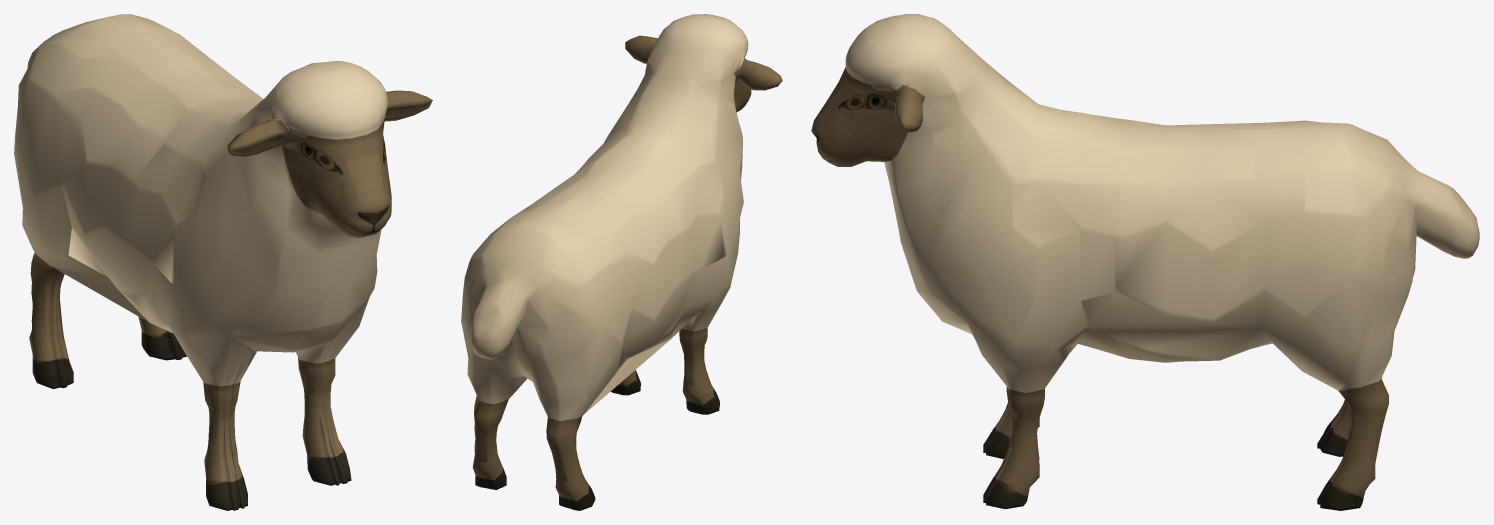
Rendered from sheep.glb.
3 renders of one model, left to right at view 1: azimuth 30°, elevation 25°; view 2: azimuth 150°, elevation 25°; view 3: azimuth 270°, elevation 25°, orthographic. The views are drawn at different scales.
Parts seen in each view (by area): view 1: GOE_sheep; view 2: GOE_sheep; view 3: GOE_sheep.
Boxes of the visible parts, x1=… form: GOE_sheep: x1=14, y1=14, x2=432, y2=510; GOE_sheep: x1=461, y1=14, x2=782, y2=510; GOE_sheep: x1=811, y1=14, x2=1479, y2=510.
Bounding box in the file's own units: 0.3519 × 0.7469 × 1.
1 material, 1 textured.
